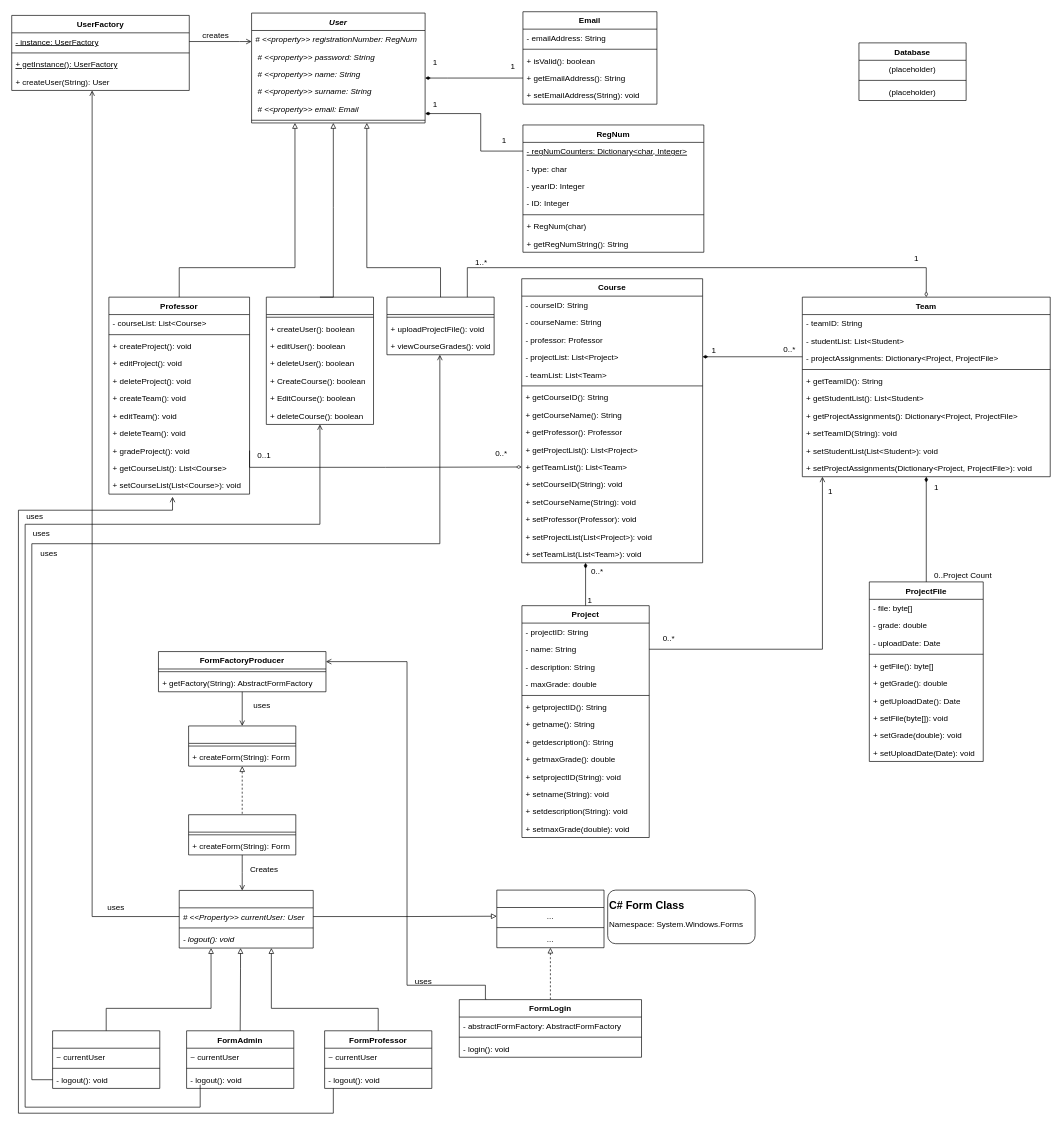
Image size: 1062x1130. Some labels were removed from this diagram. The box of each missing label's shape, as (x1, y1, x2, y2) in pixels:
AbstractFormFactory: (188, 725, 296, 766)
Admin: (266, 296, 374, 424)
Form: (496, 889, 604, 948)
FormStudent: (52, 1030, 160, 1088)
Student: (386, 296, 494, 355)
UserForm: (179, 890, 313, 948)
UserFormFactory: (188, 814, 296, 855)
